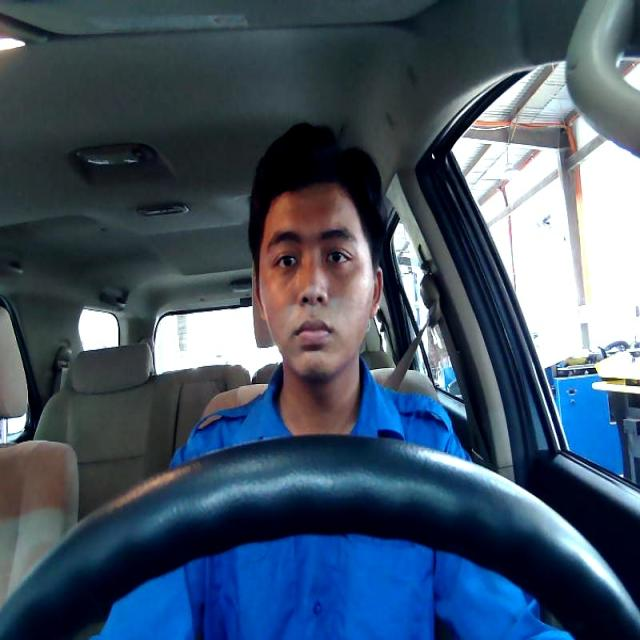focused: (250, 184, 383, 378)
